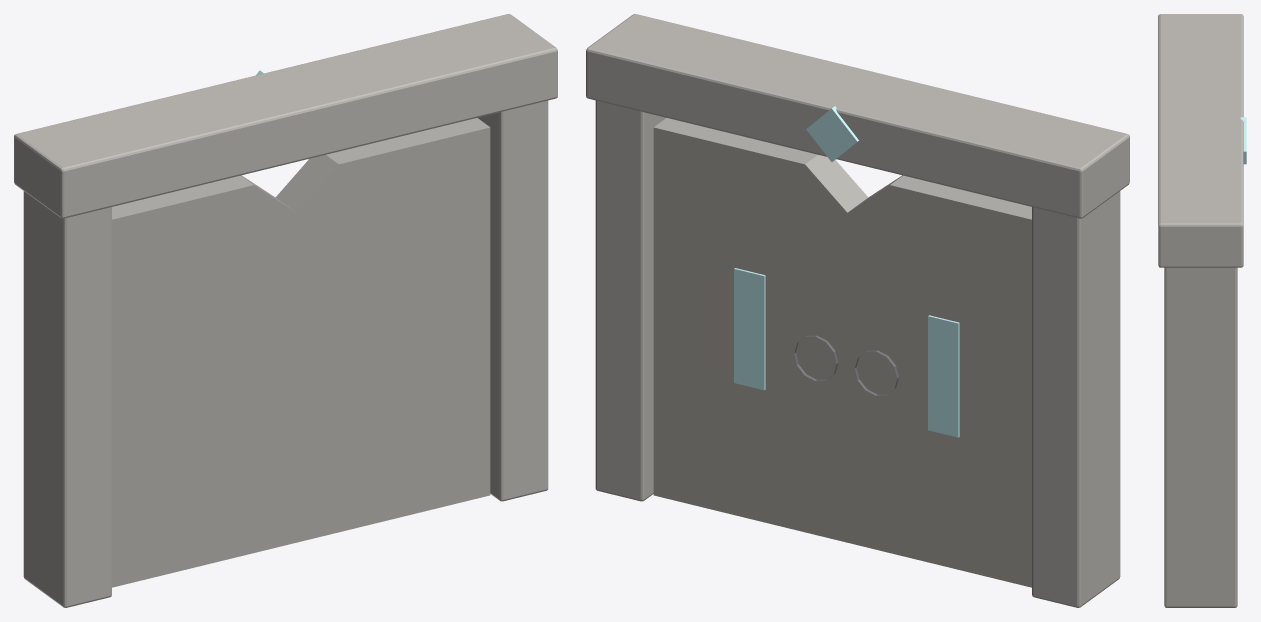
Rendered from twin_door.glb.
3 views of the same model, side by side, from view 1: azimuth 30°, elevation 25°; view 2: azimuth 150°, elevation 25°; view 3: azimuth 270°, elevation 25° (orthographic). The views are drawn at different scales.
Parts seen in each view (by area): view 1: twin_door; view 2: twin_door; view 3: twin_door.
Boxes of the visible parts, <box> form: twin_door: <box>14,14,557,607</box>; twin_door: <box>586,14,1129,607</box>; twin_door: <box>1158,14,1246,607</box>.
Size of the model in its own units: 8.2 by 7.02 by 1.45.
